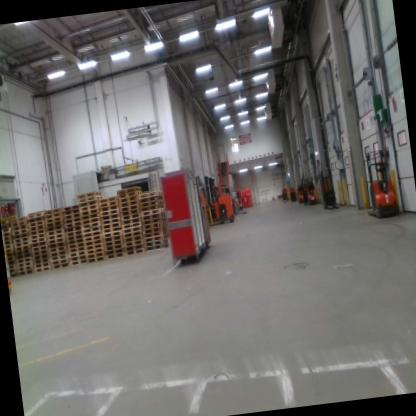pallet: (74, 192, 103, 202), (115, 185, 142, 195), (141, 225, 167, 235), (76, 190, 103, 199), (116, 188, 143, 197), (141, 206, 165, 216), (141, 215, 167, 224), (143, 243, 169, 252), (97, 195, 118, 206), (43, 204, 64, 215), (118, 211, 141, 221), (76, 198, 100, 207), (101, 226, 122, 236), (138, 201, 164, 209), (83, 241, 103, 251), (138, 190, 163, 198), (48, 248, 68, 258), (26, 209, 46, 219), (118, 221, 142, 229), (140, 199, 164, 207), (144, 239, 168, 247), (83, 233, 102, 243), (47, 240, 66, 250), (45, 223, 64, 233), (45, 215, 64, 225), (77, 202, 98, 211), (78, 207, 99, 216), (99, 208, 120, 217), (98, 204, 119, 213), (98, 200, 119, 209), (118, 208, 141, 216), (121, 239, 144, 247), (142, 235, 168, 242), (79, 211, 99, 220), (79, 216, 99, 225), (102, 234, 122, 243), (62, 202, 80, 212), (49, 258, 69, 267), (8, 214, 28, 223), (104, 253, 126, 261), (118, 204, 140, 212), (120, 225, 142, 233), (138, 195, 163, 202), (142, 221, 167, 228), (103, 230, 122, 239), (51, 261, 70, 270), (48, 245, 67, 254), (44, 211, 63, 220), (11, 231, 30, 240), (80, 220, 101, 228), (81, 225, 102, 233), (83, 246, 104, 254), (103, 248, 124, 256), (103, 243, 124, 251), (100, 222, 121, 230), (100, 216, 121, 224), (120, 215, 141, 223), (46, 232, 64, 241), (26, 215, 44, 224), (122, 244, 145, 251), (81, 229, 101, 237), (142, 232, 168, 238), (122, 235, 144, 242), (65, 229, 82, 238), (69, 253, 86, 262), (48, 236, 65, 245), (86, 256, 105, 264), (45, 220, 64, 228), (124, 249, 145, 256), (141, 213, 165, 219), (65, 220, 81, 229), (50, 254, 68, 262), (28, 227, 46, 235), (31, 252, 49, 260), (10, 222, 28, 230), (103, 240, 123, 247), (100, 213, 120, 220), (31, 244, 48, 252), (83, 238, 102, 245), (65, 233, 84, 240), (45, 229, 64, 236), (13, 251, 32, 258), (64, 212, 80, 220), (119, 195, 140, 201), (122, 231, 143, 237), (67, 246, 85, 253), (67, 251, 85, 258), (32, 257, 50, 264), (33, 261, 51, 268), (33, 266, 51, 273), (119, 200, 139, 206), (64, 216, 81, 223), (67, 238, 84, 245), (28, 220, 45, 227), (28, 224, 45, 231), (29, 232, 46, 239), (30, 237, 47, 244), (30, 241, 47, 248), (13, 240, 30, 247), (15, 256, 32, 263), (17, 269, 34, 276), (85, 252, 104, 258), (69, 259, 88, 265), (65, 225, 81, 232), (9, 219, 27, 225), (12, 236, 30, 242), (67, 243, 84, 249), (31, 249, 48, 255), (16, 261, 33, 267), (17, 265, 34, 271), (10, 228, 29, 233), (13, 245, 32, 250), (13, 248, 32, 253), (62, 209, 79, 214), (7, 258, 16, 266), (0, 218, 9, 225), (1, 223, 11, 229), (3, 235, 13, 241), (4, 243, 14, 249), (2, 231, 13, 236), (8, 272, 19, 277), (3, 240, 13, 245), (6, 254, 16, 259), (4, 248, 14, 252), (6, 251, 14, 256), (2, 228, 11, 232), (8, 269, 16, 273), (8, 265, 15, 269)
pallet_truck: (186, 172, 216, 260), (209, 163, 242, 227), (197, 172, 223, 239), (315, 161, 339, 215), (298, 173, 319, 210), (230, 187, 252, 220), (294, 180, 307, 205), (287, 178, 298, 205), (277, 183, 288, 207)
